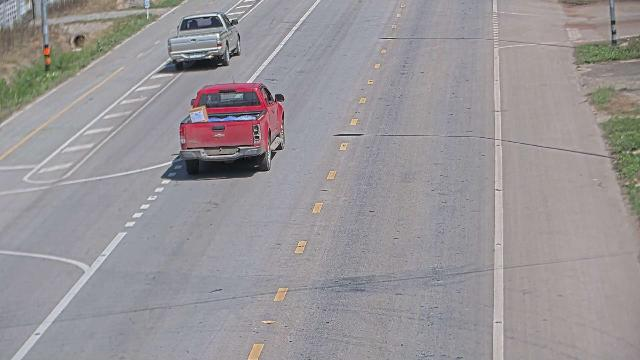pickup-truck: (178, 79, 285, 174), (166, 11, 241, 70)
